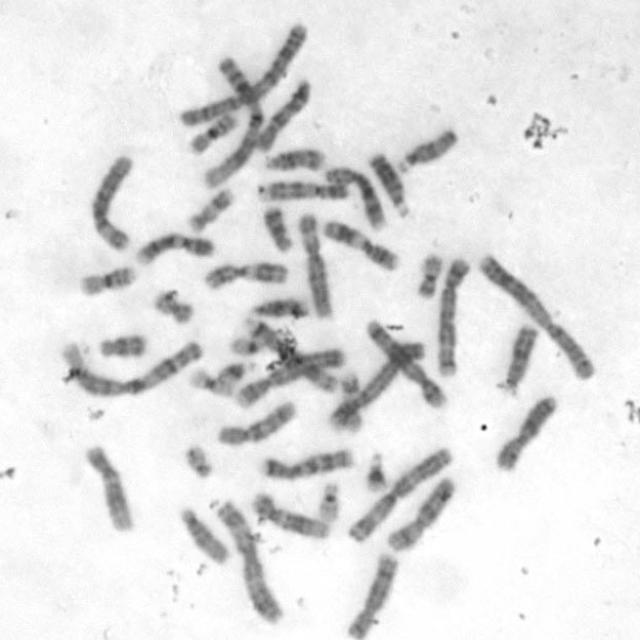A1: (56, 333, 206, 400), (199, 51, 263, 191)
A2: (473, 247, 598, 383), (174, 17, 310, 128)
A3: (342, 442, 456, 544), (208, 494, 285, 627)
B4: (324, 335, 427, 433), (232, 342, 347, 408)
B5: (362, 314, 449, 411), (431, 252, 473, 378)
C10: (252, 72, 313, 153), (213, 396, 300, 447)
C11: (320, 214, 402, 273), (201, 256, 291, 291)
C12: (80, 440, 135, 533), (248, 487, 334, 541)
C6: (85, 150, 135, 252), (293, 206, 337, 320)
C7: (235, 318, 346, 395), (255, 442, 356, 482)
C8: (341, 548, 400, 639), (321, 160, 390, 230)
C9: (131, 227, 217, 268), (255, 176, 350, 204)
D13: (363, 148, 412, 218), (500, 319, 540, 394)
D14: (260, 142, 327, 173), (243, 292, 312, 321)
D15: (175, 503, 233, 566), (392, 122, 461, 173)
E16: (184, 106, 241, 156), (76, 260, 137, 298)
E17: (184, 182, 236, 234), (334, 366, 365, 434)
E18: (258, 200, 295, 253), (93, 329, 150, 360)
F19: (186, 363, 234, 398), (225, 330, 268, 357)
F20: (150, 286, 196, 326), (412, 248, 444, 300)
G21: (212, 356, 257, 392), (360, 444, 390, 494)
G22: (312, 476, 343, 524), (181, 442, 215, 479)
X: (384, 471, 458, 552), (492, 389, 560, 474)
